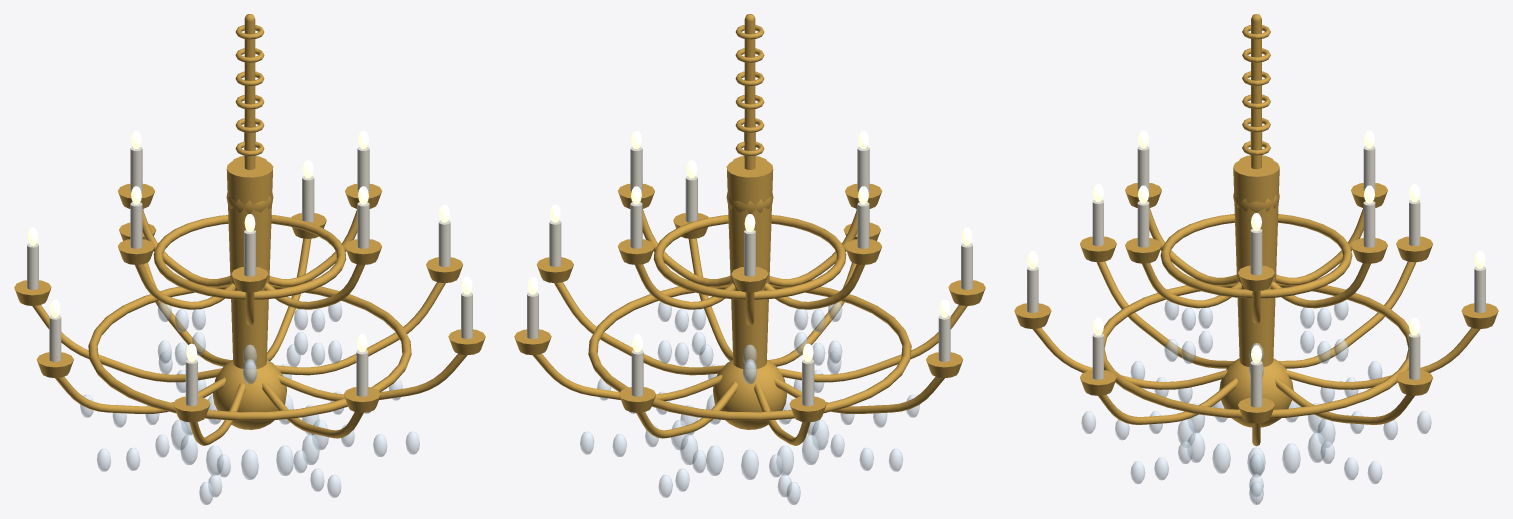
The model's file is arana.glb.
The picture shows the model from 3 angles, left to right: view 1: azimuth 30°, elevation 25°; view 2: azimuth 150°, elevation 25°; view 3: azimuth 270°, elevation 25°; orthographic projection.
Visible parts, largest first — view 1: arana; view 2: arana; view 3: arana.
Boxes of the visible parts, x1,y1,x2,y2 form: arana: [14, 14, 485, 504]; arana: [514, 14, 985, 504]; arana: [1014, 14, 1498, 504].
Size of the model in its own units: 1.04 by 1.03 by 1.04.
